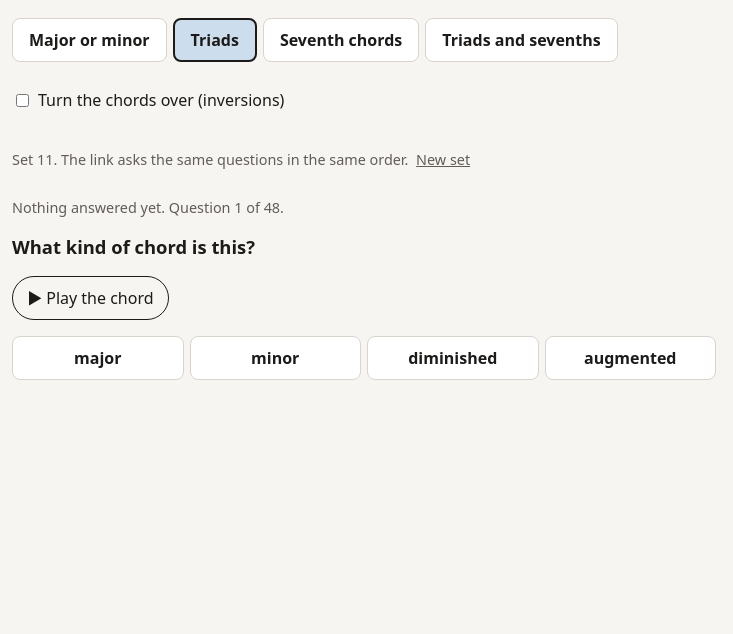
Scenario: Quiz: the listening drill › goes on to the next chord and plays it
This screenshot has width=733, height=634.
Click the button "diminished" at (453, 358), box [367, 336, 538, 380]
(page scrolled)
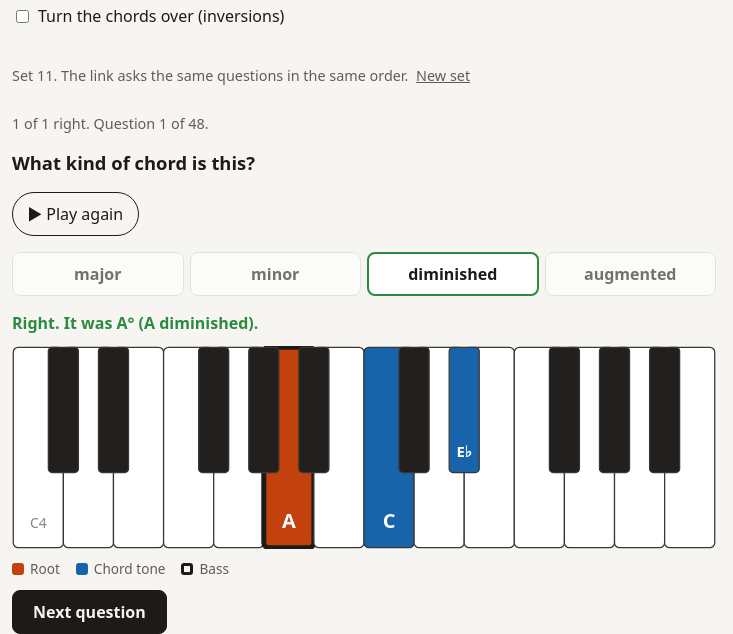
Click the button "Next question" at (89, 612), box [12, 590, 167, 633]
(page scrolled)
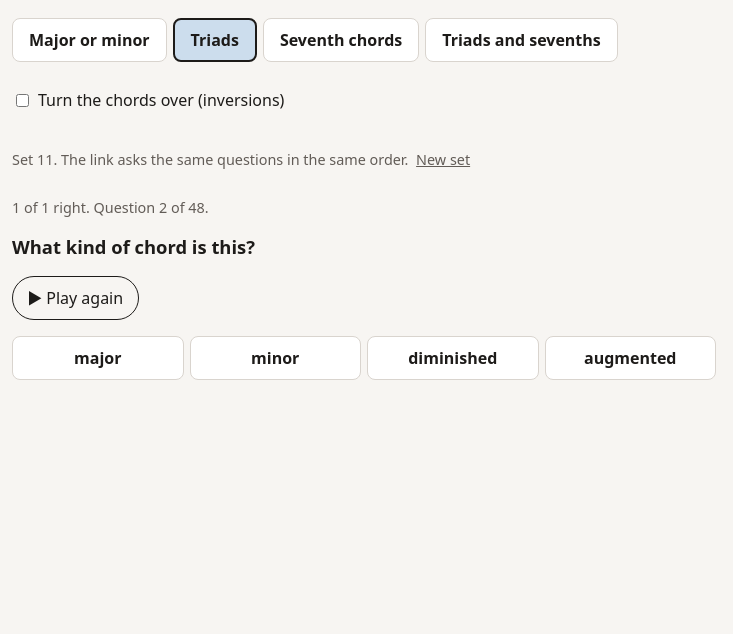
Expected: the text "1 of 1 right. Question 2 of 48." is shown, [12, 198, 209, 217]
